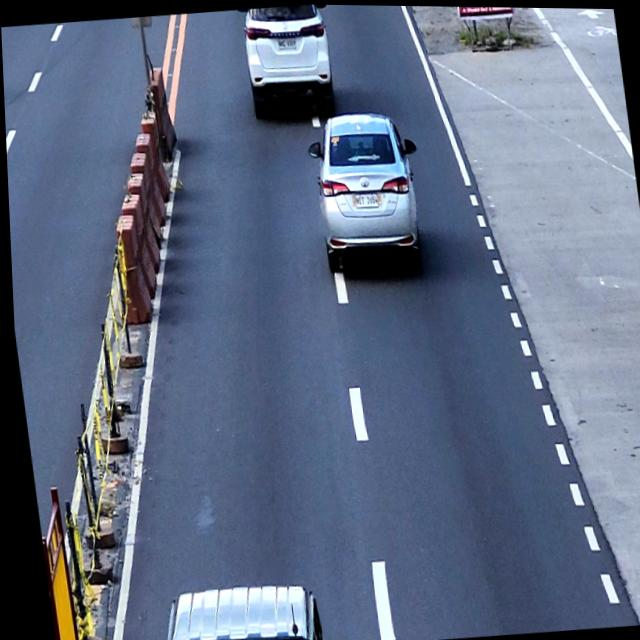Car: (302, 104, 430, 275), (140, 575, 331, 640), (237, 3, 338, 117)
License-Plate: (352, 190, 378, 207), (276, 35, 297, 51)
